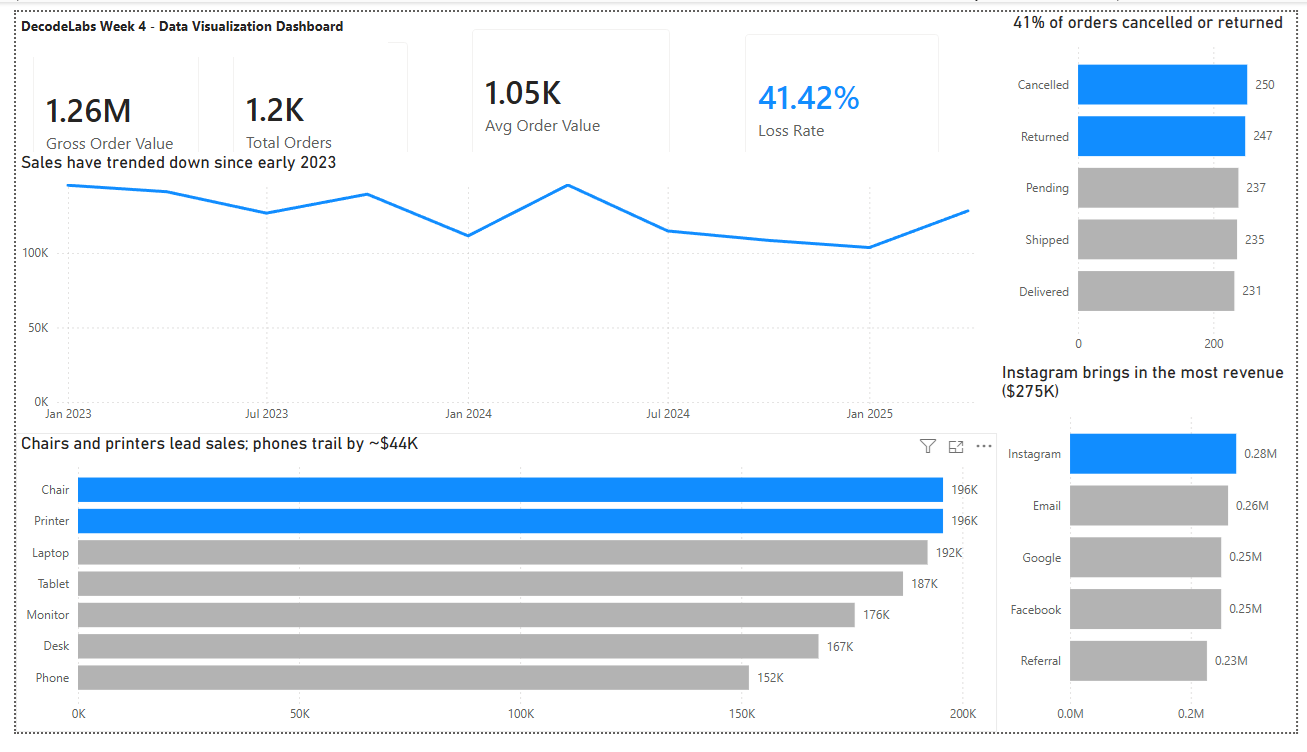

What the dashboard file says about the page in this screenshot:
{"tool":"powerbi","page":{"name":"Overview","canvas":[1280,720],"ordinal":0},"visuals":[{"type":"cardVisual","fields":{"Data":["Sum(Sheet1.TotalPrice)"]},"box":[0,5.2,200.1,202.7],"z":0},{"type":"cardVisual","fields":{"Data":["Avg(Sheet1.TotalPrice)"]},"box":[439.2,0,231.3,176.7],"z":1000},{"type":"cardVisual","fields":{"Data":["Sheet1.Loss Rate"]},"box":[712.1,5.2,227.4,176.7],"z":2000},{"type":"cardVisual","fields":{"Data":["CountNonNull(Sheet1.OrderID)"]},"box":[200.1,13,209.2,185.8],"z":3000},{"type":"lineChart","title":"Sales have trended down since early 2023","fields":{"Y":["Sum(Sheet1.TotalPrice)"],"Category":["Sheet1.Date.Variation.Date Hierarchy.Year","Sheet1.Date.Variation.Date Hierarchy.Quarter"]},"box":[0,140.3,981.1,279.4],"z":4000},{"type":"clusteredBarChart","title":"Chairs and printers lead sales; phones trail by ~$44K","fields":{"Category":["Sheet1.Product"],"Y":["Sum(Sheet1.TotalPrice)"]},"box":[0,420.6,981.1,299.9],"z":5000},{"type":"clusteredBarChart","title":"41% of orders cancelled or returned","fields":{"Category":["Sheet1.OrderStatus"],"Y":["CountNonNull(Sheet1.OrderID)"]},"box":[991.5,0,288.5,349.6],"z":6000},{"type":"clusteredBarChart","title":"Instagram brings in the most revenue ($275K)","fields":{"Category":["Sheet1.ReferralSource"],"Y":["Sum(Sheet1.TotalPrice)"]},"box":[981.1,349.7,298.9,369.8],"z":8000},{"type":"textbox","box":[0,0,371.7,45.5],"z":9000}]}

Visuals, with their boxes in screenshot pixels (x1, y1, x2, y2), scaled from the page's 1280x720 canvas onto the 1307x752 screenshot:
cardVisual - Sum(Sheet1.TotalPrice): <region>0, 5, 204, 217</region>
cardVisual - Avg(Sheet1.TotalPrice): <region>448, 0, 685, 185</region>
cardVisual - Sheet1.Loss Rate: <region>727, 5, 959, 190</region>
cardVisual - CountNonNull(Sheet1.OrderID): <region>204, 14, 418, 208</region>
"Sales have trended down since early 2023" lineChart: <region>0, 147, 1002, 438</region>
"Chairs and printers lead sales; phones trail by ~$44K" clusteredBarChart: <region>0, 439, 1002, 751</region>
"41% of orders cancelled or returned" clusteredBarChart: <region>1012, 0, 1306, 365</region>
"Instagram brings in the most revenue ($275K)" clusteredBarChart: <region>1002, 365, 1306, 751</region>
textbox: <region>0, 0, 380, 48</region>
